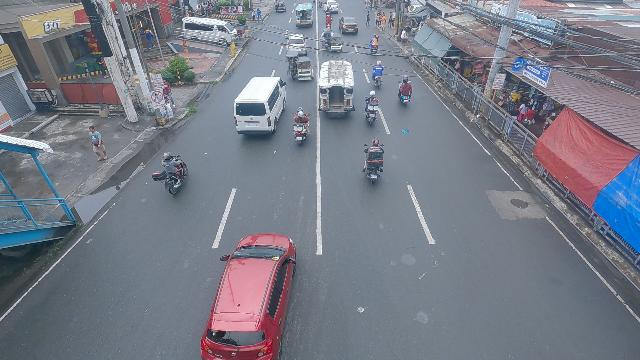car: (198, 232, 298, 360), (287, 34, 309, 55), (339, 16, 359, 35), (323, 0, 340, 14)
jeepney: (317, 59, 355, 119), (294, 2, 314, 27)
motorcycle: (151, 153, 188, 194), (363, 137, 385, 185), (292, 108, 311, 147), (363, 90, 379, 128), (398, 77, 412, 107), (372, 63, 384, 89), (369, 34, 380, 54), (325, 13, 332, 28), (319, 0, 323, 8)
van: (233, 76, 287, 136)
